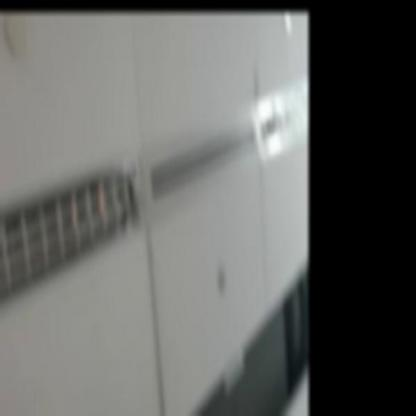light_off: (0, 144, 145, 374)
